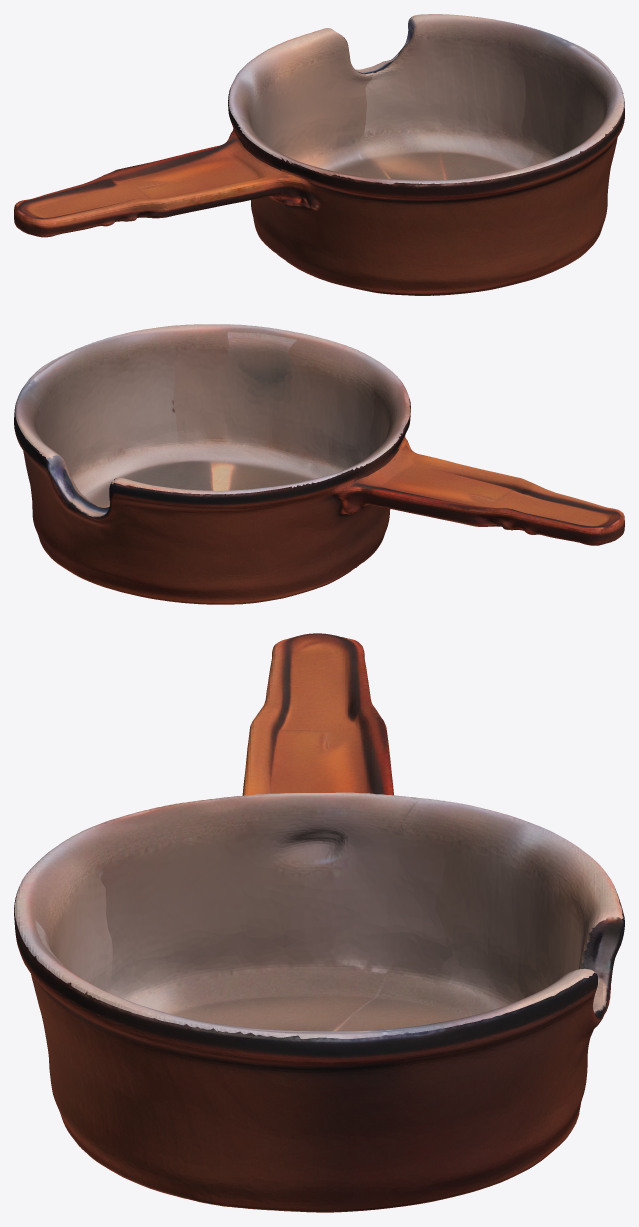
File: image_0002_segmented.glb
The picture shows the model from 3 angles, top to bottom: view 1: azimuth 30°, elevation 25°; view 2: azimuth 150°, elevation 25°; view 3: azimuth 270°, elevation 25°; orthographic projection. The views are drawn at different scales.
Visible parts, largest first — view 1: tmpeaktb_gg.ply; view 2: tmpeaktb_gg.ply; view 3: tmpeaktb_gg.ply.
Boxes of the visible parts, x1,y1,x2,y2 form: tmpeaktb_gg.ply: (14,14,624,295); tmpeaktb_gg.ply: (14,324,624,604); tmpeaktb_gg.ply: (14,633,624,1212).
Bounding box in the file's own units: 2 × 0.4254 × 1.19.
1 material, 1 textured.
